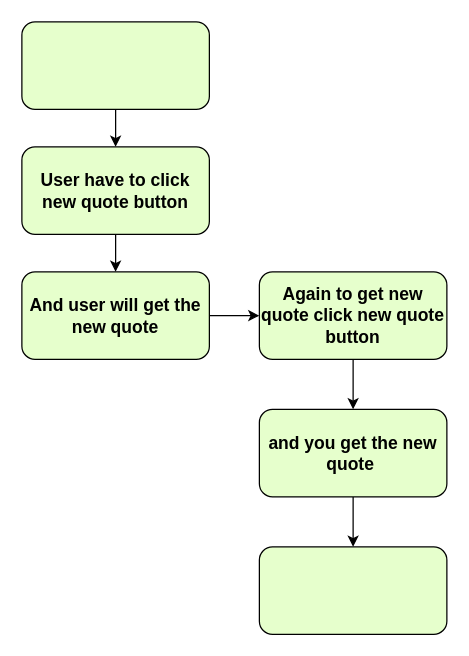
Some shapes in this 469 by 656 pixel diagram are drawn without their labels. Here are the shapes that lost their labels. From the top down, the centre of each, then its label:
the point at 115,65: User opens the webpage
the point at 352,590: and on clicking the new quote buttons user will get new quote
